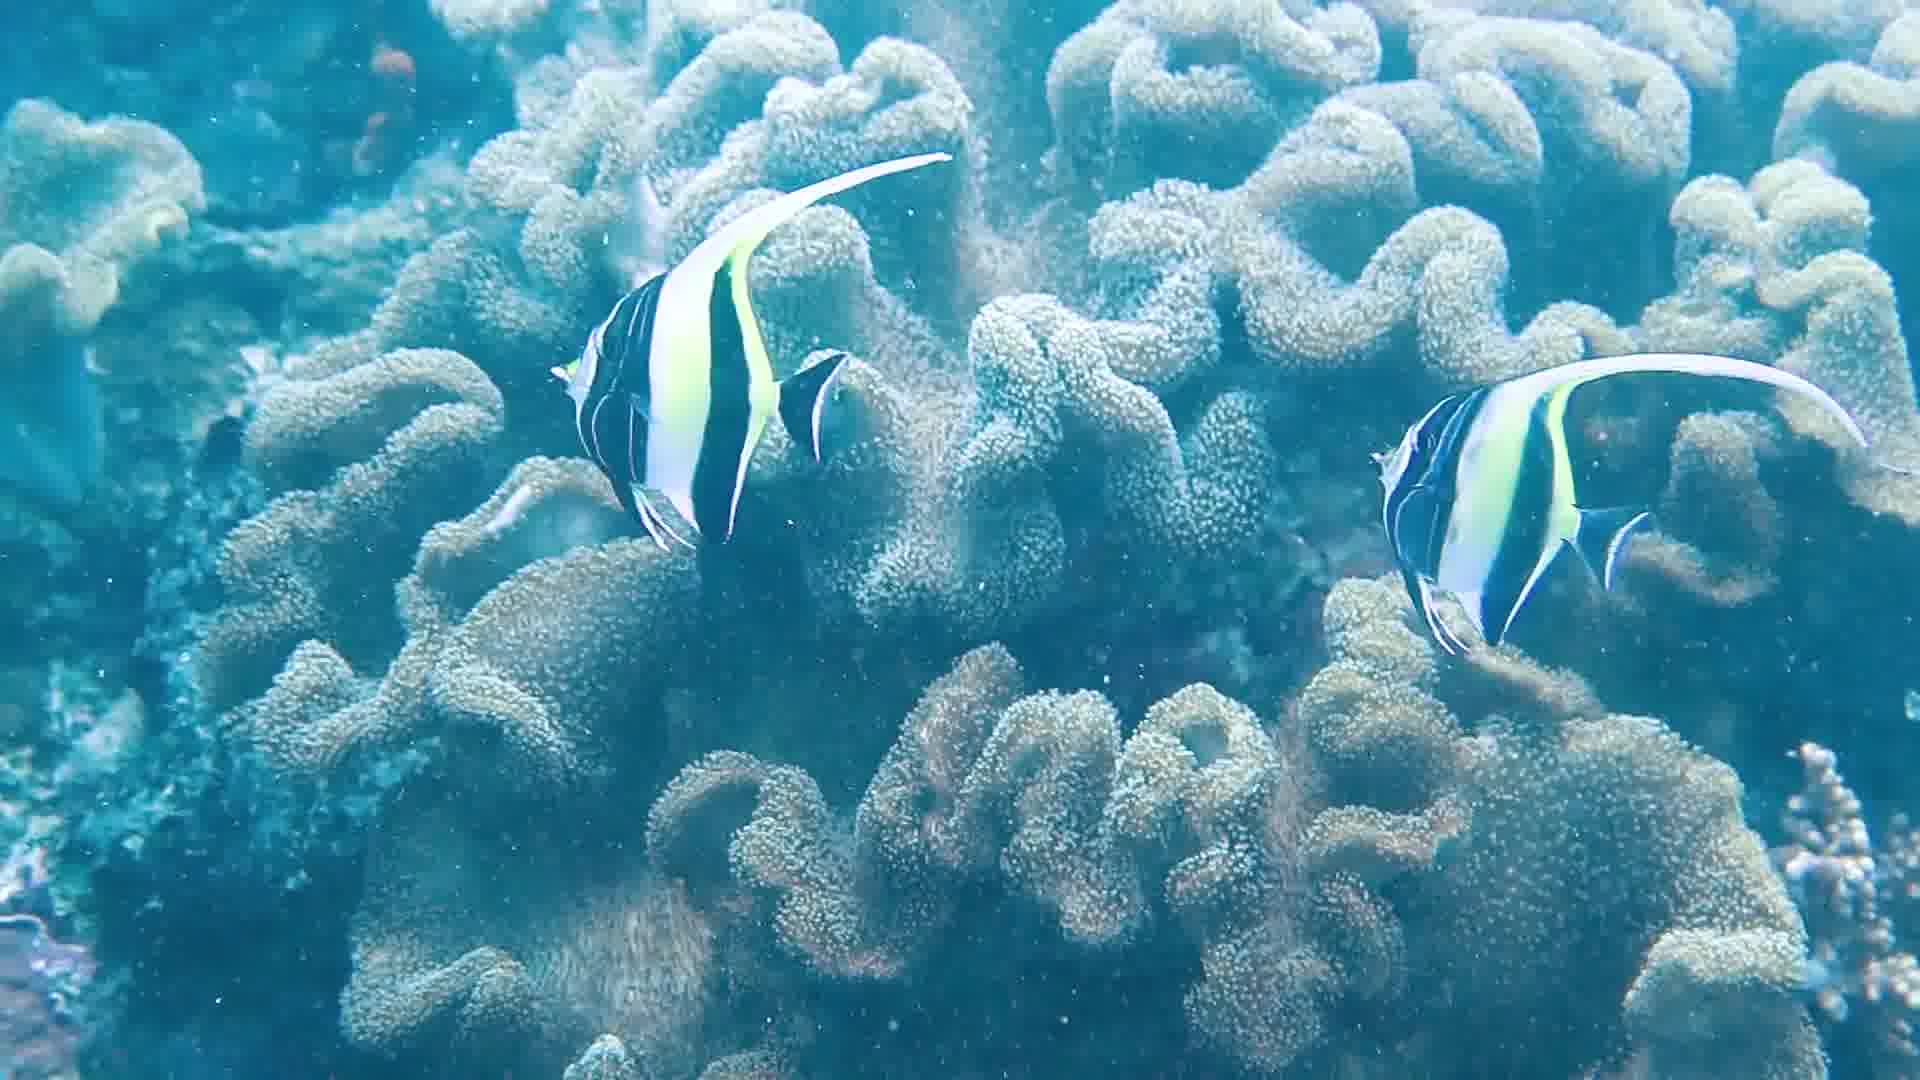Zanclus cornutus: (554, 214, 847, 554), (1360, 335, 1651, 676)
